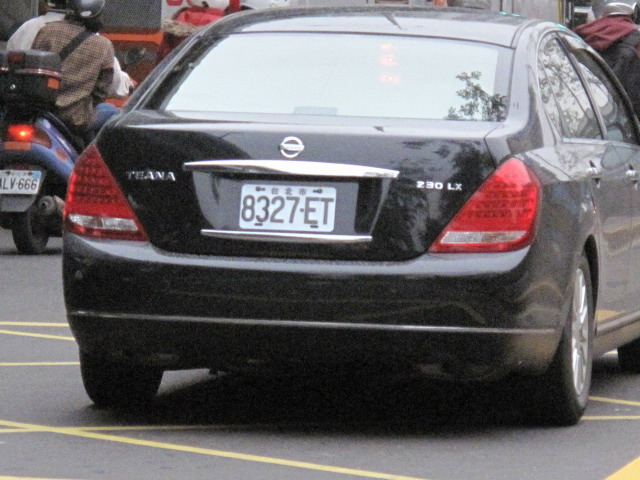plate: (236, 181, 339, 236), (0, 168, 42, 199)
